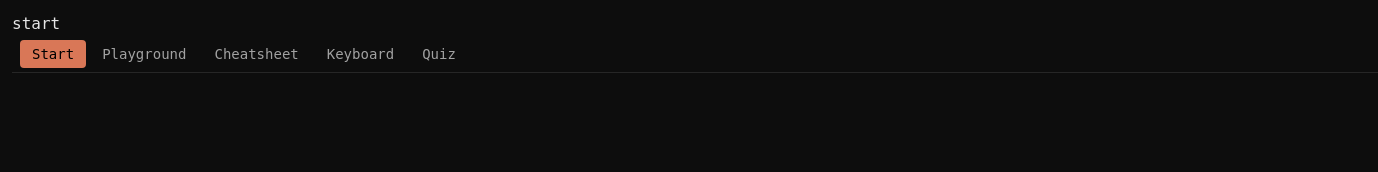
Test: CommandBar › clicking a tab switches the mode
Click the tab "Quiz".
click(439, 54)  # box x1=410 y1=40 x2=468 y2=68
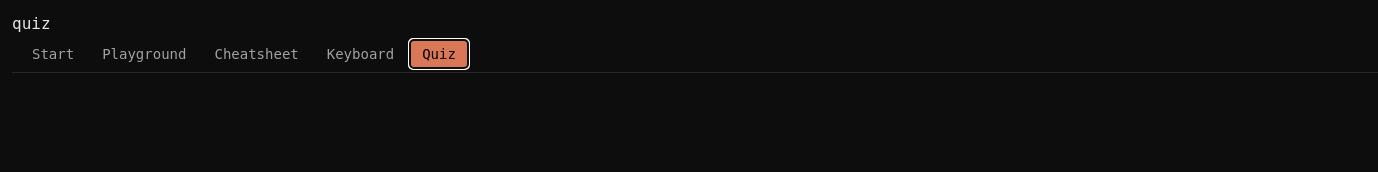
Check: the text with test id "mode" reads "quiz", box x1=12 y1=14 x2=50 y2=33
